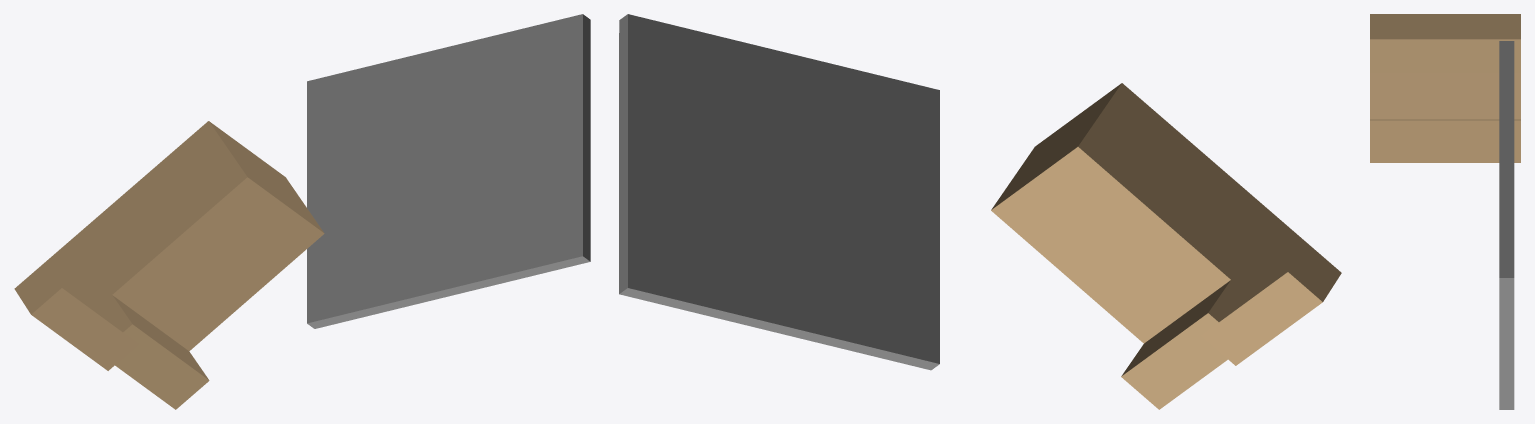
3 views of the same model, side by side, from view 1: azimuth 30°, elevation 25°; view 2: azimuth 150°, elevation 25°; view 3: azimuth 270°, elevation 25° (orthographic). The views are drawn at different scales.
Visible parts, largest first — view 1: 0_3_0_2_1_1_2; view 2: 0_3_0_2_1_1_2; view 3: 0_3_0_2_1_1_2.
Part boxes in pixels (x1,y1,x2,y2): 0_3_0_2_1_1_2: (14, 14, 590, 409); 0_3_0_2_1_1_2: (619, 14, 1341, 409); 0_3_0_2_1_1_2: (1370, 14, 1520, 409).
Bounding box in the file's own units: 127 × 52 × 30.
